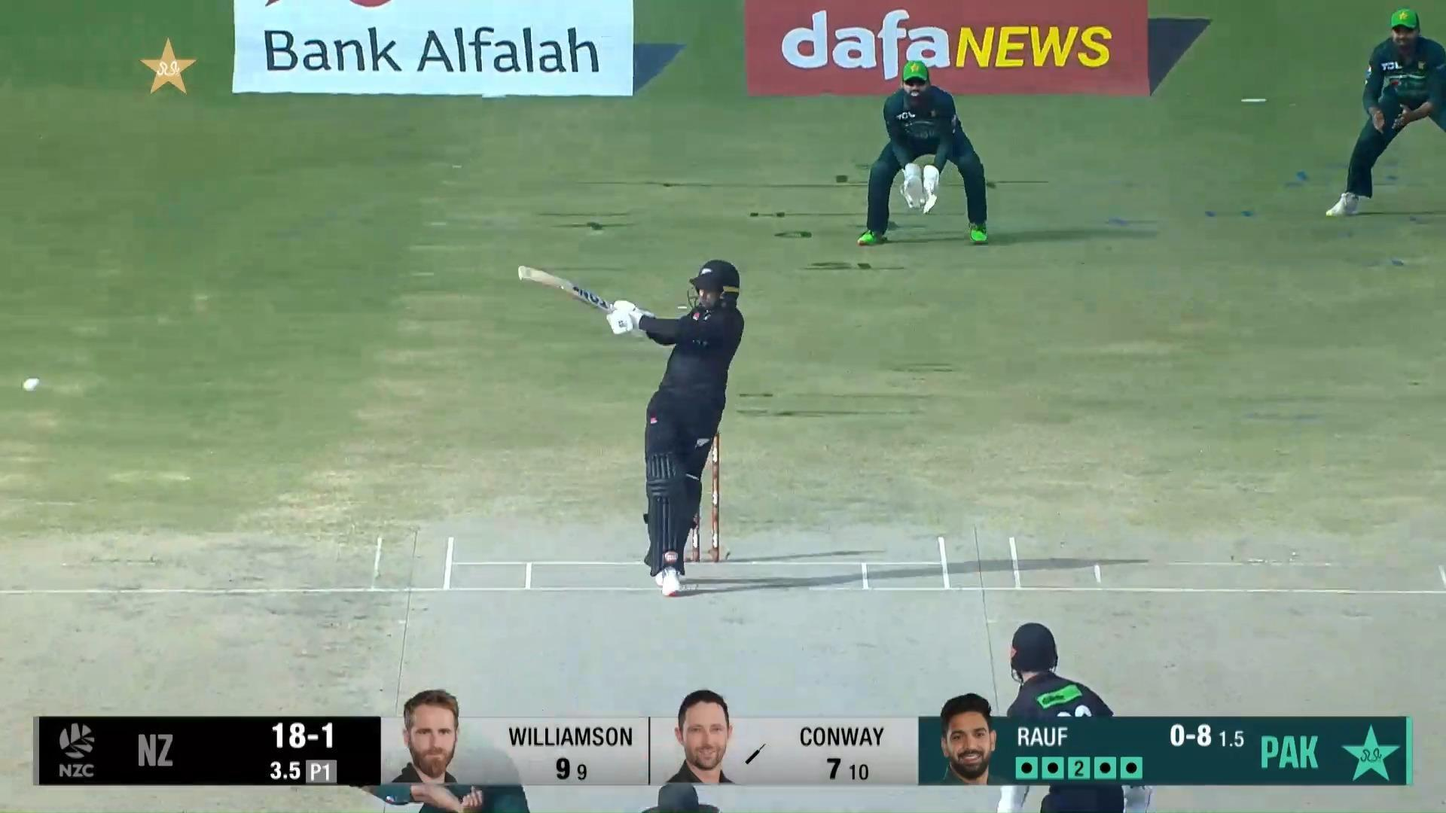BM 1: (519, 259, 745, 597)
BO: (318, 709, 535, 813)
